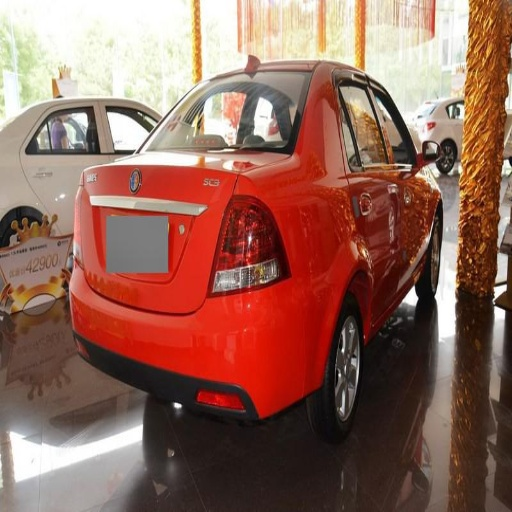back_bumper: (74, 268, 339, 492)
back_right_door: (332, 67, 400, 288), (22, 105, 102, 200)
tailgate: (85, 149, 236, 312)
trunk: (84, 154, 186, 259)
